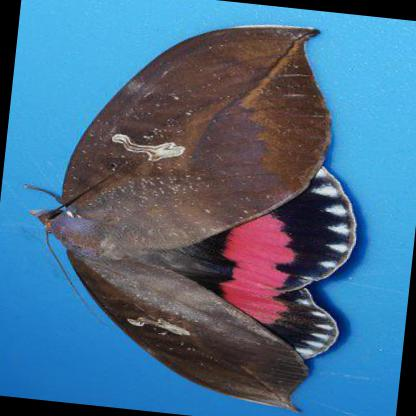fruit sucking moth: (29, 23, 360, 410)
